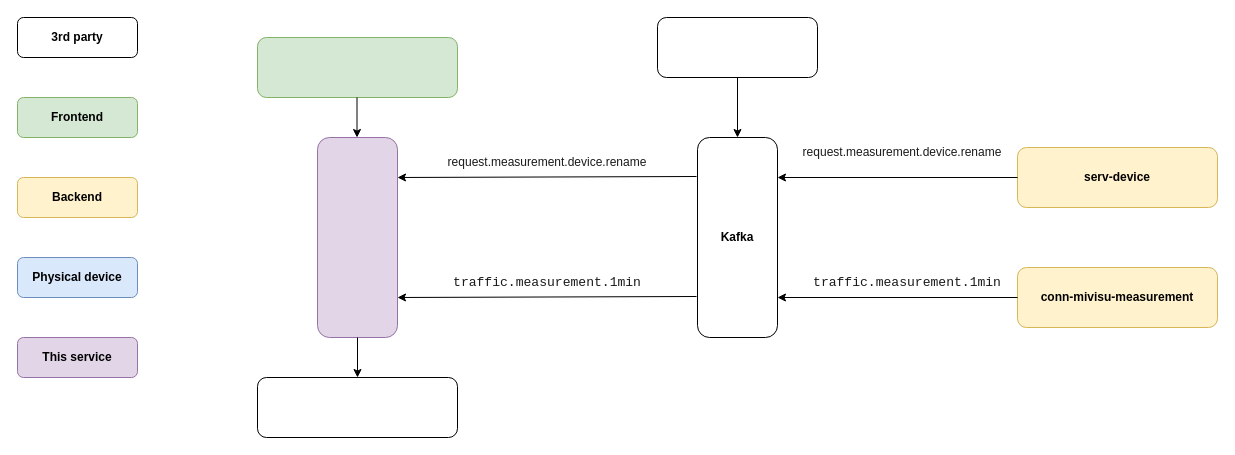
This 1235x455 diagram has some shape labels left out. Here are the shapes that lost their labels. From the top down, the centre of each, then its label:
At [357,67]: "Web-operator".
At [737,47]: "Kafdrop".
At [357,407]: "postgres-db".
